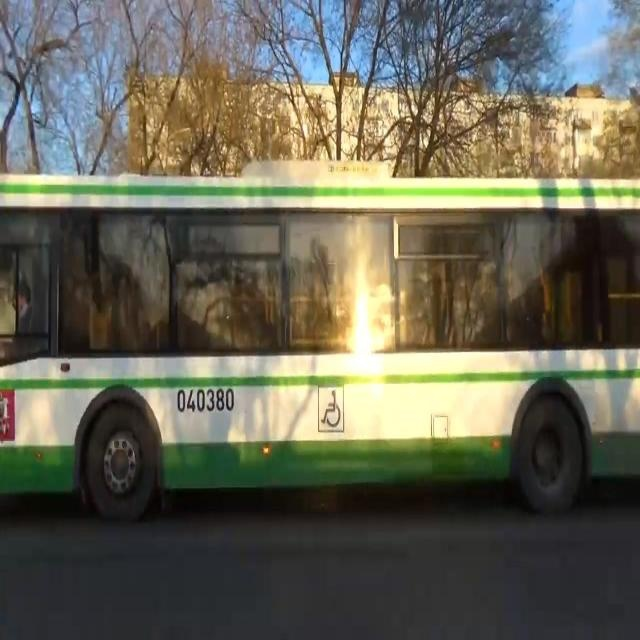Bus: (1, 155, 640, 541)
